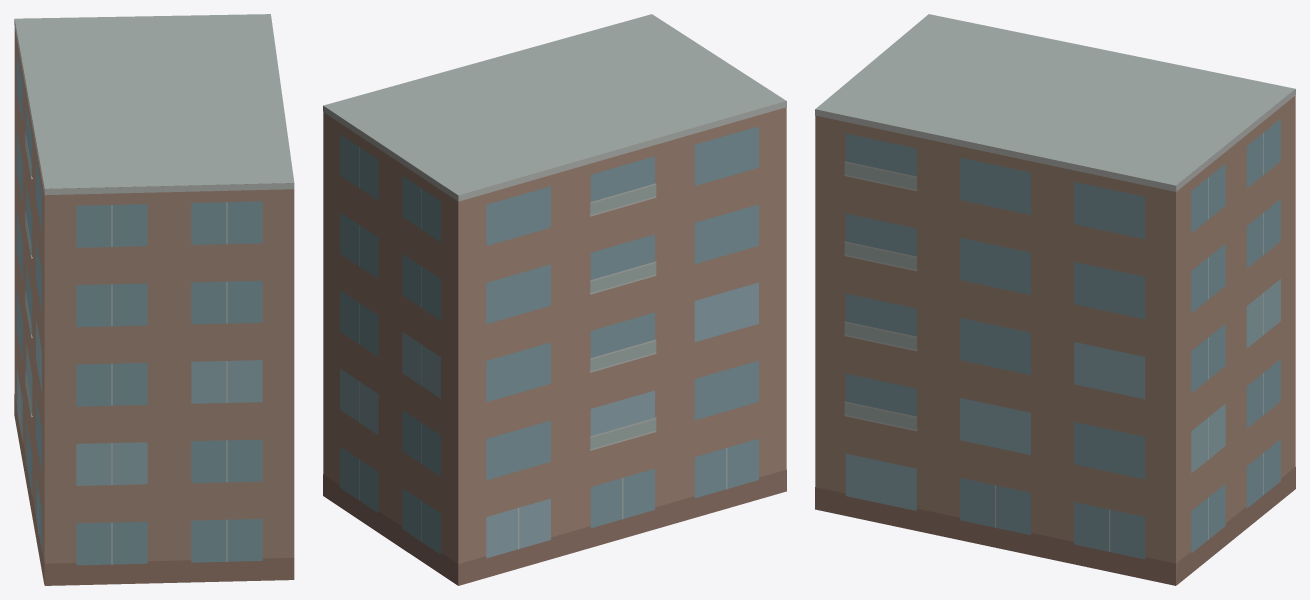
The model's file is survey-upis-32880491.glb.
3 renders of one model, left to right at view 1: azimuth 30°, elevation 25°; view 2: azimuth 150°, elevation 25°; view 3: azimuth 270°, elevation 25°, orthographic. The views are drawn at different scales.
Visible parts, largest first — view 1: survey-upis-32880491.tmp; view 2: survey-upis-32880491.tmp; view 3: survey-upis-32880491.tmp.
Part boxes in pixels (box(x1,y1,x2,y2)): survey-upis-32880491.tmp: box(14, 14, 294, 585); survey-upis-32880491.tmp: box(323, 14, 786, 585); survey-upis-32880491.tmp: box(815, 14, 1295, 585).
Size of the model in its own units: 14.17 by 15.4 by 16.77.
